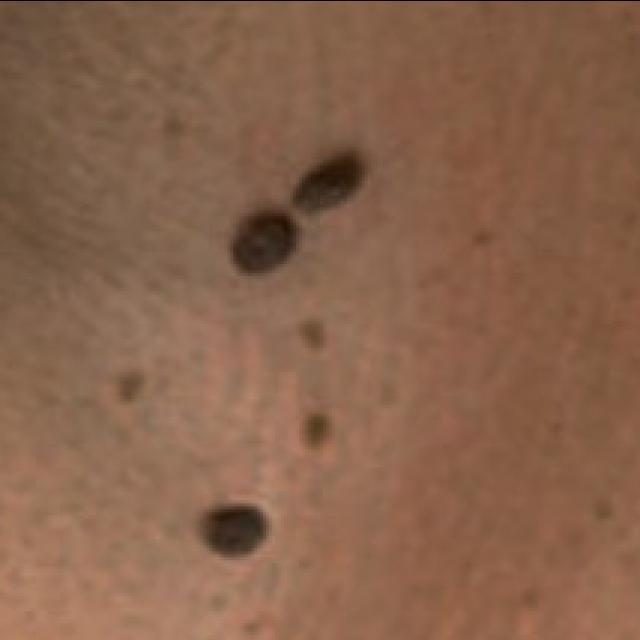wart: (224, 203, 302, 287), (290, 146, 362, 222), (194, 497, 270, 562)
